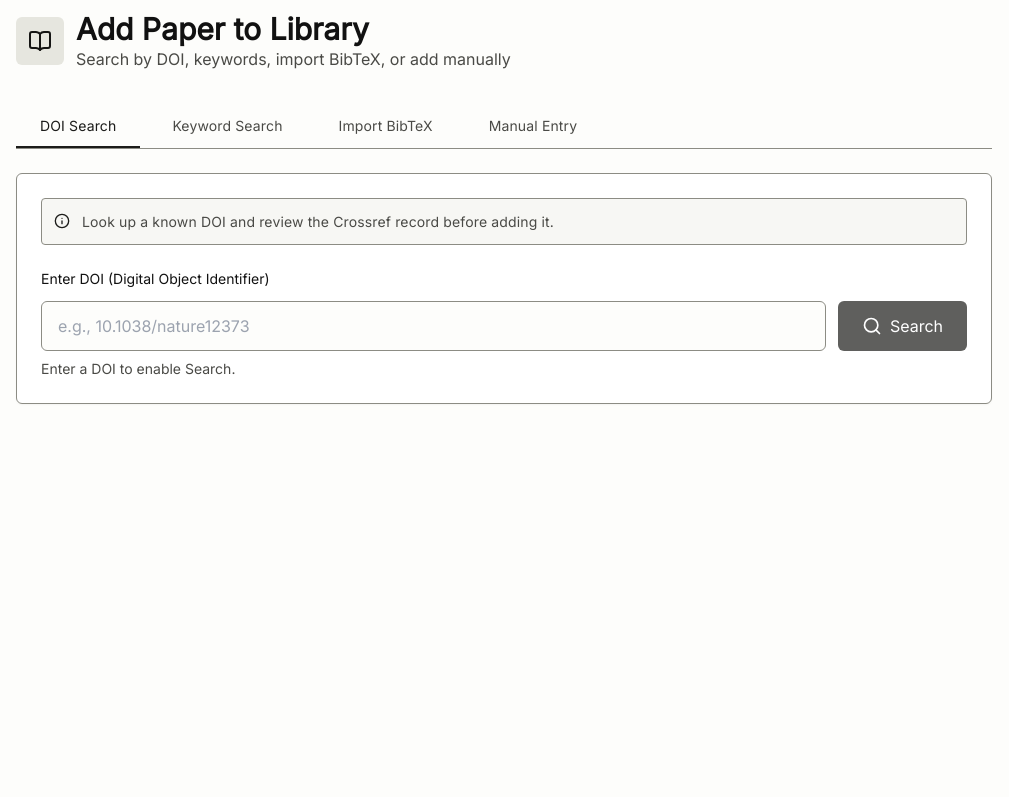
Test: Manual entry validation (AddPaperView) › clears a per-field error when that field changes
Click the tab "Manual Entry".
click(533, 126)  # box [465,103,601,148]
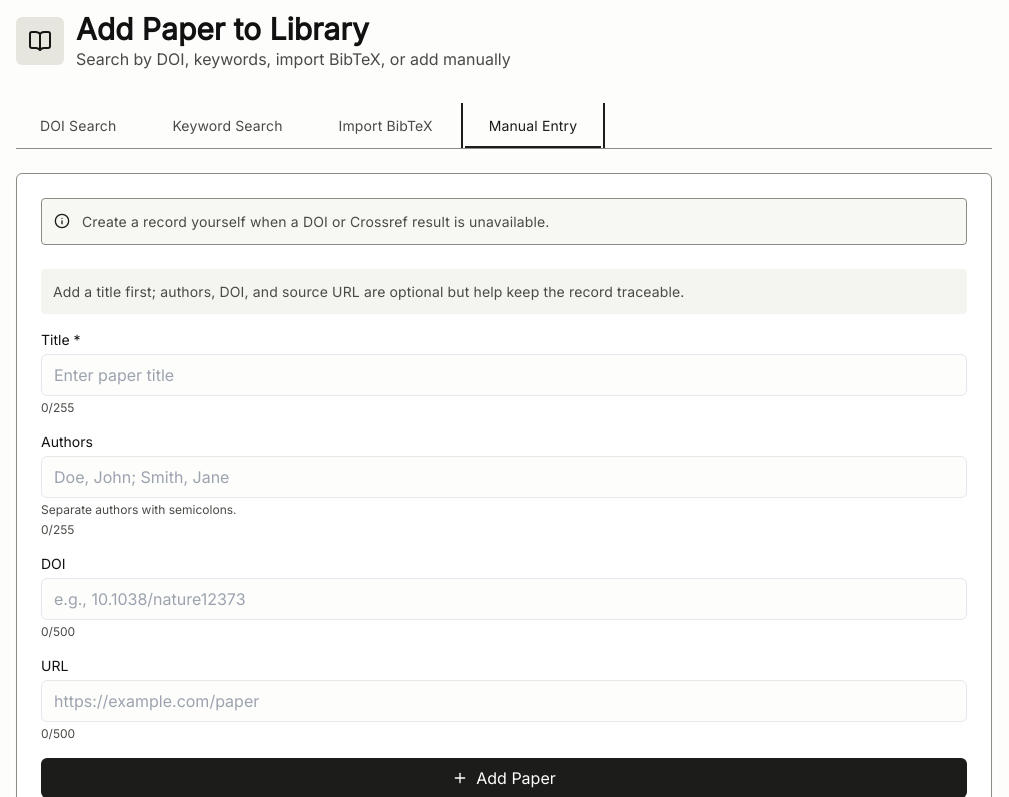
Submit the form named "add paper", box [41,330,967,796]
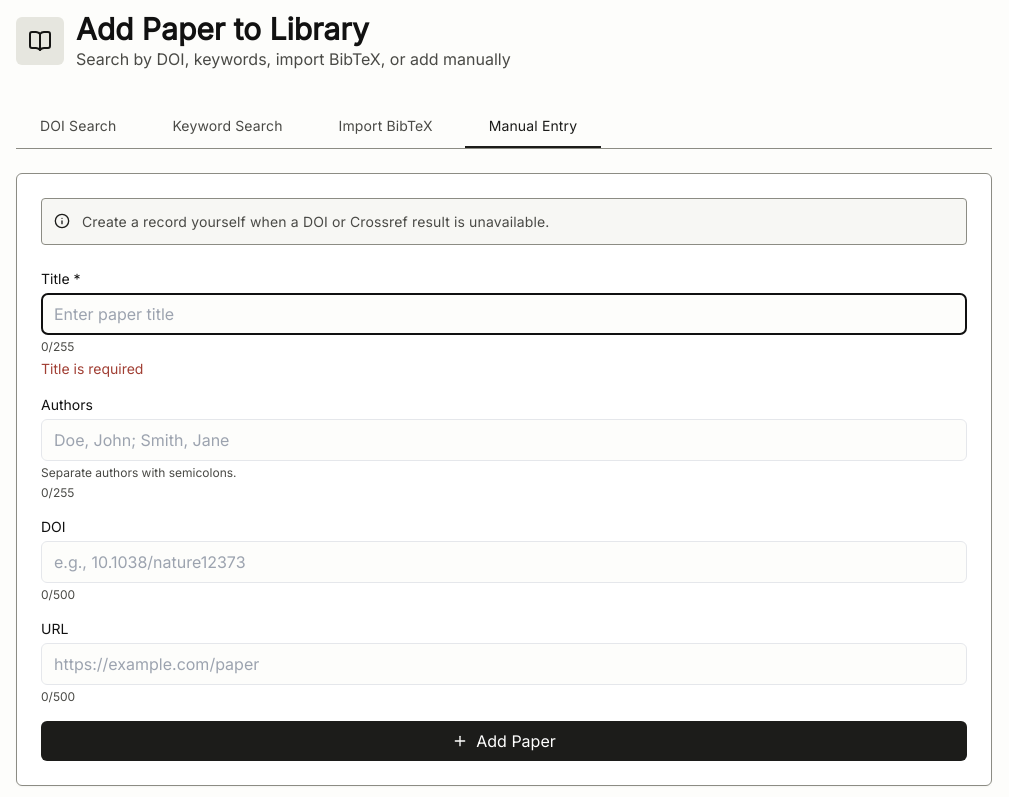
Expected: the text "Title is required" is shown, [41,360,143,377]
Type "Now titled" into the field with placeholder "Enter paper title".
click(504, 314); type("Now titled")  # box [41,293,967,335]
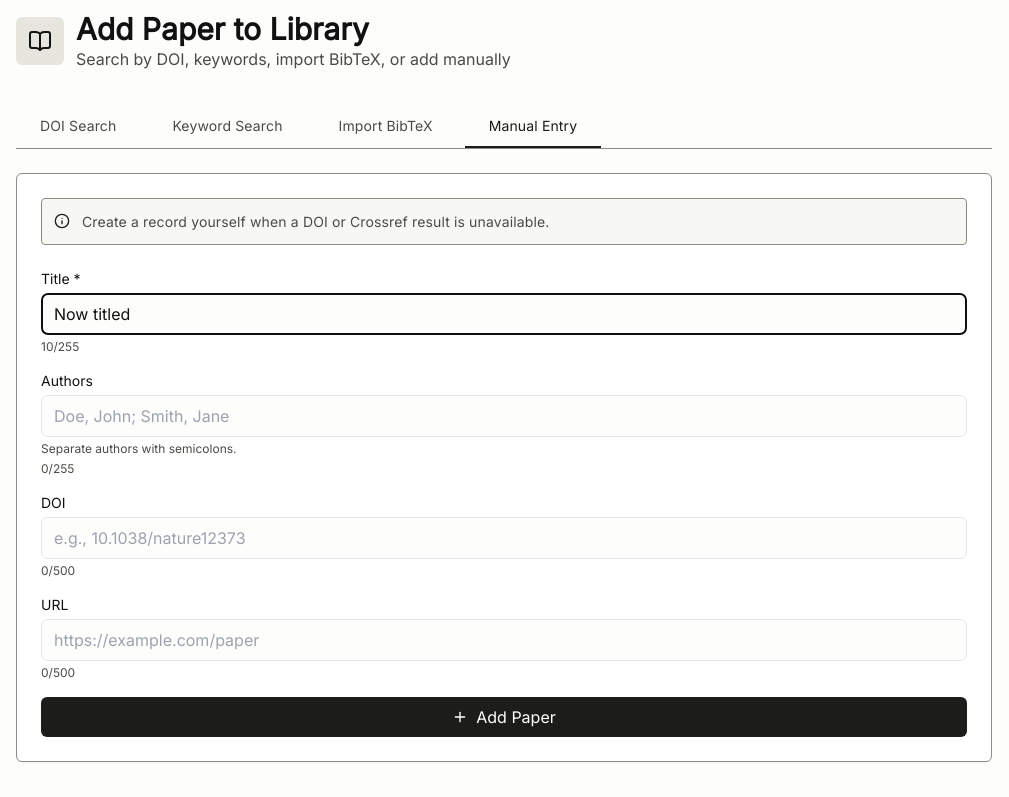
Expected: the text "Title is required" is gone
